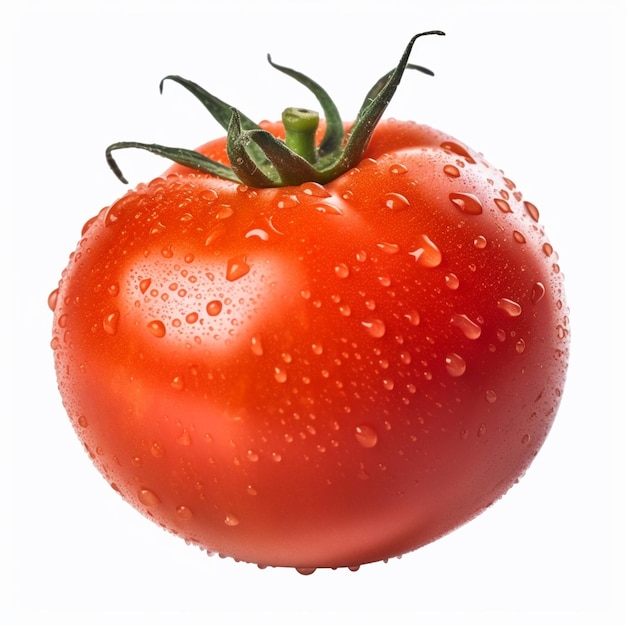tomato: (51, 94, 571, 572)
